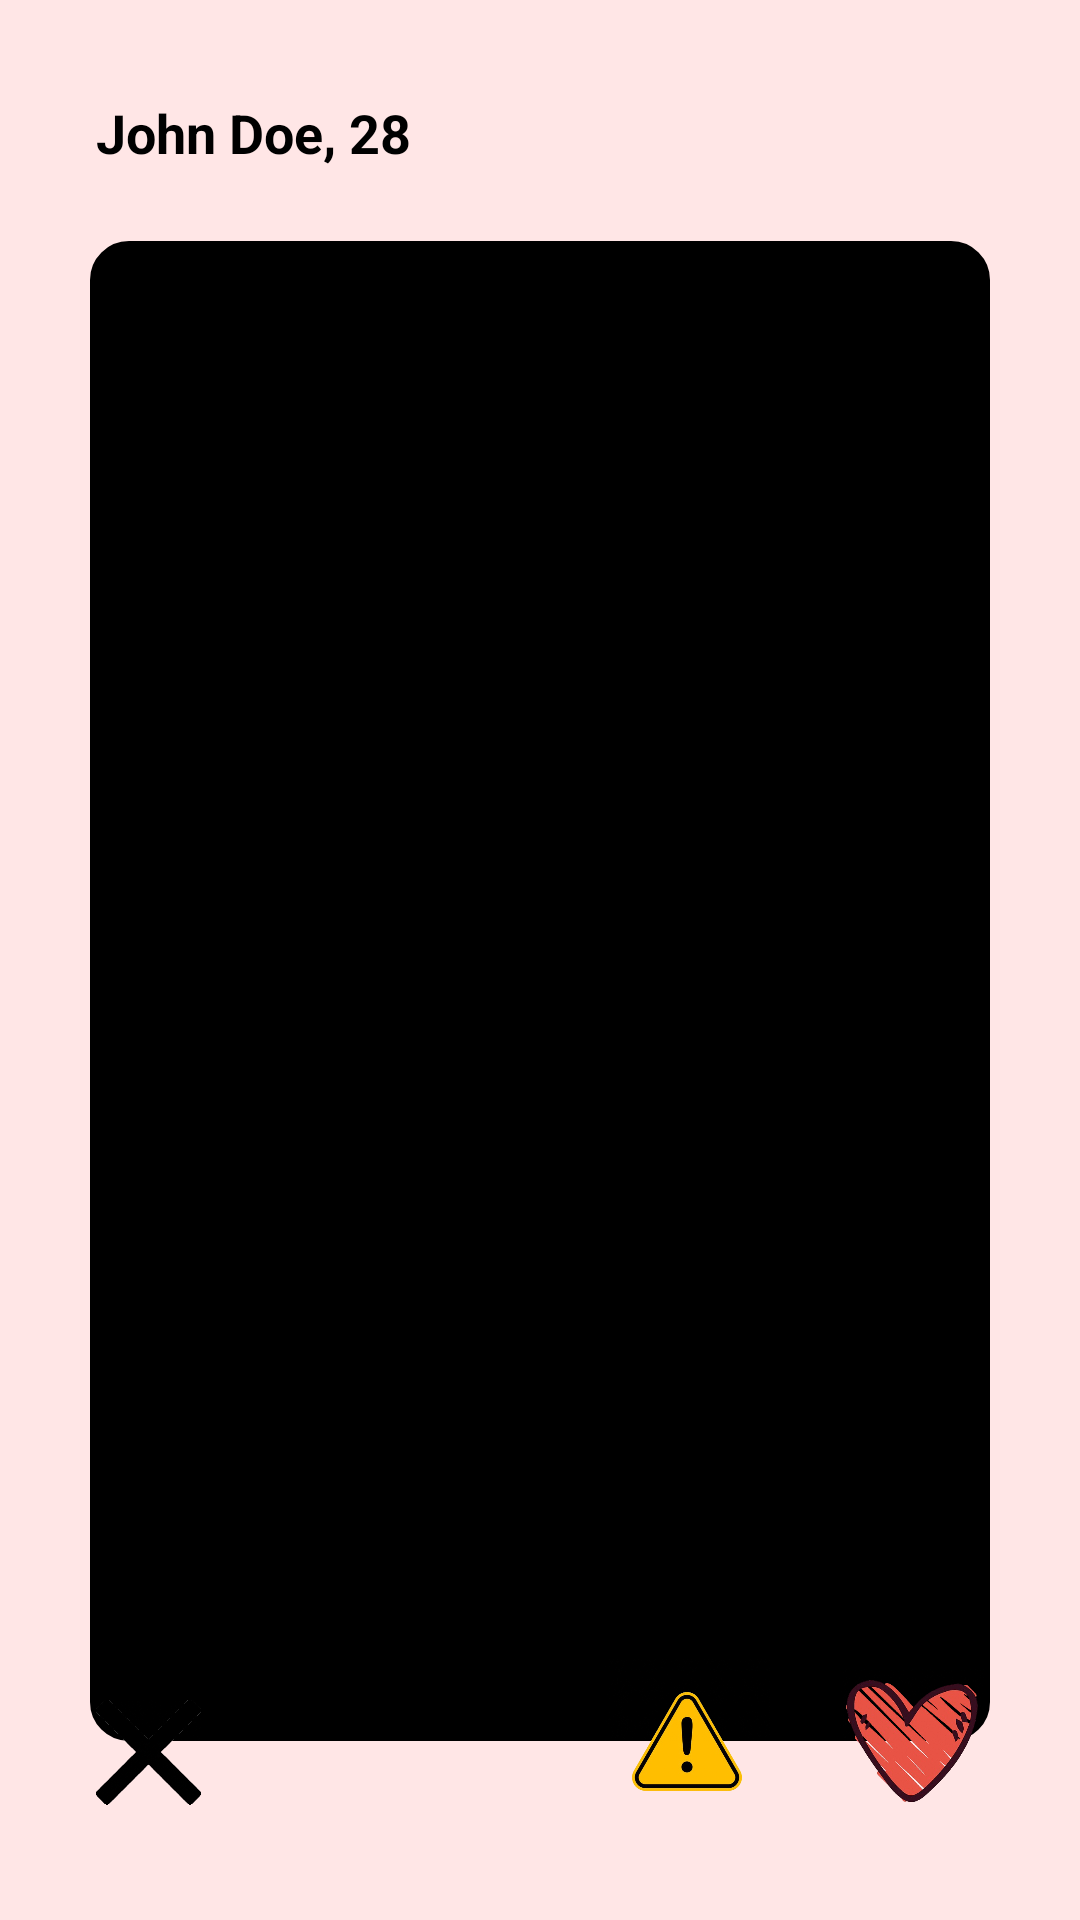

Screen size 1080 x 1920. Icon name, then its center in pixels as point (x, y):
Heart Icon: point (912, 1741)
Warning Icon: point (687, 1741)
X Icon: point (148, 1752)
